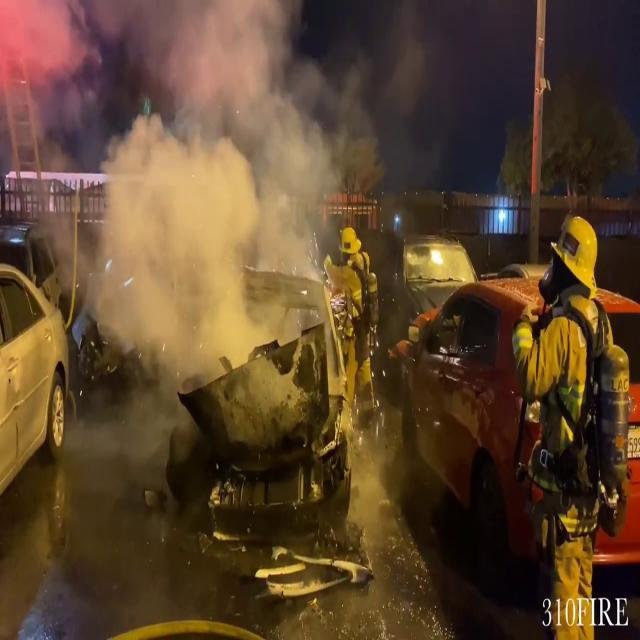Smoke: (19, 0, 363, 370)
